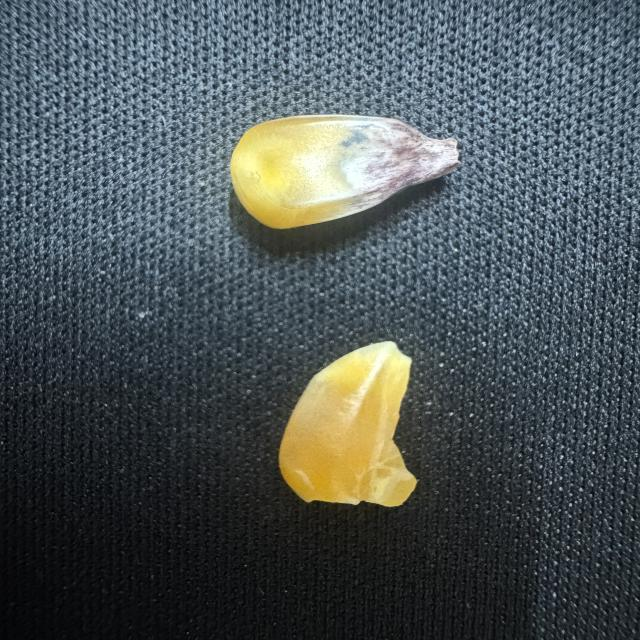Bad-Seed: (226, 112, 470, 232), (272, 338, 418, 511)
